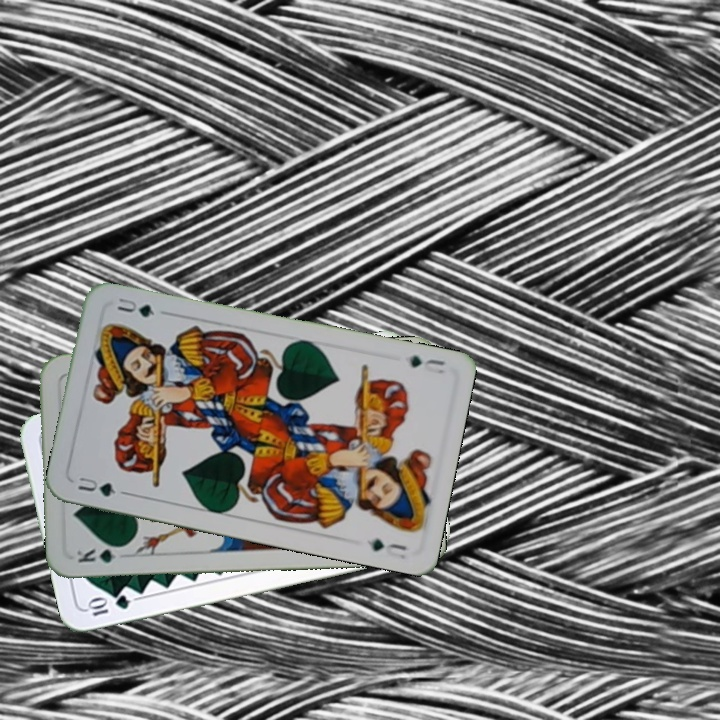G10: (83, 591, 133, 619)
GK: (72, 542, 129, 565)
GU: (405, 351, 451, 377), (74, 473, 119, 499)
